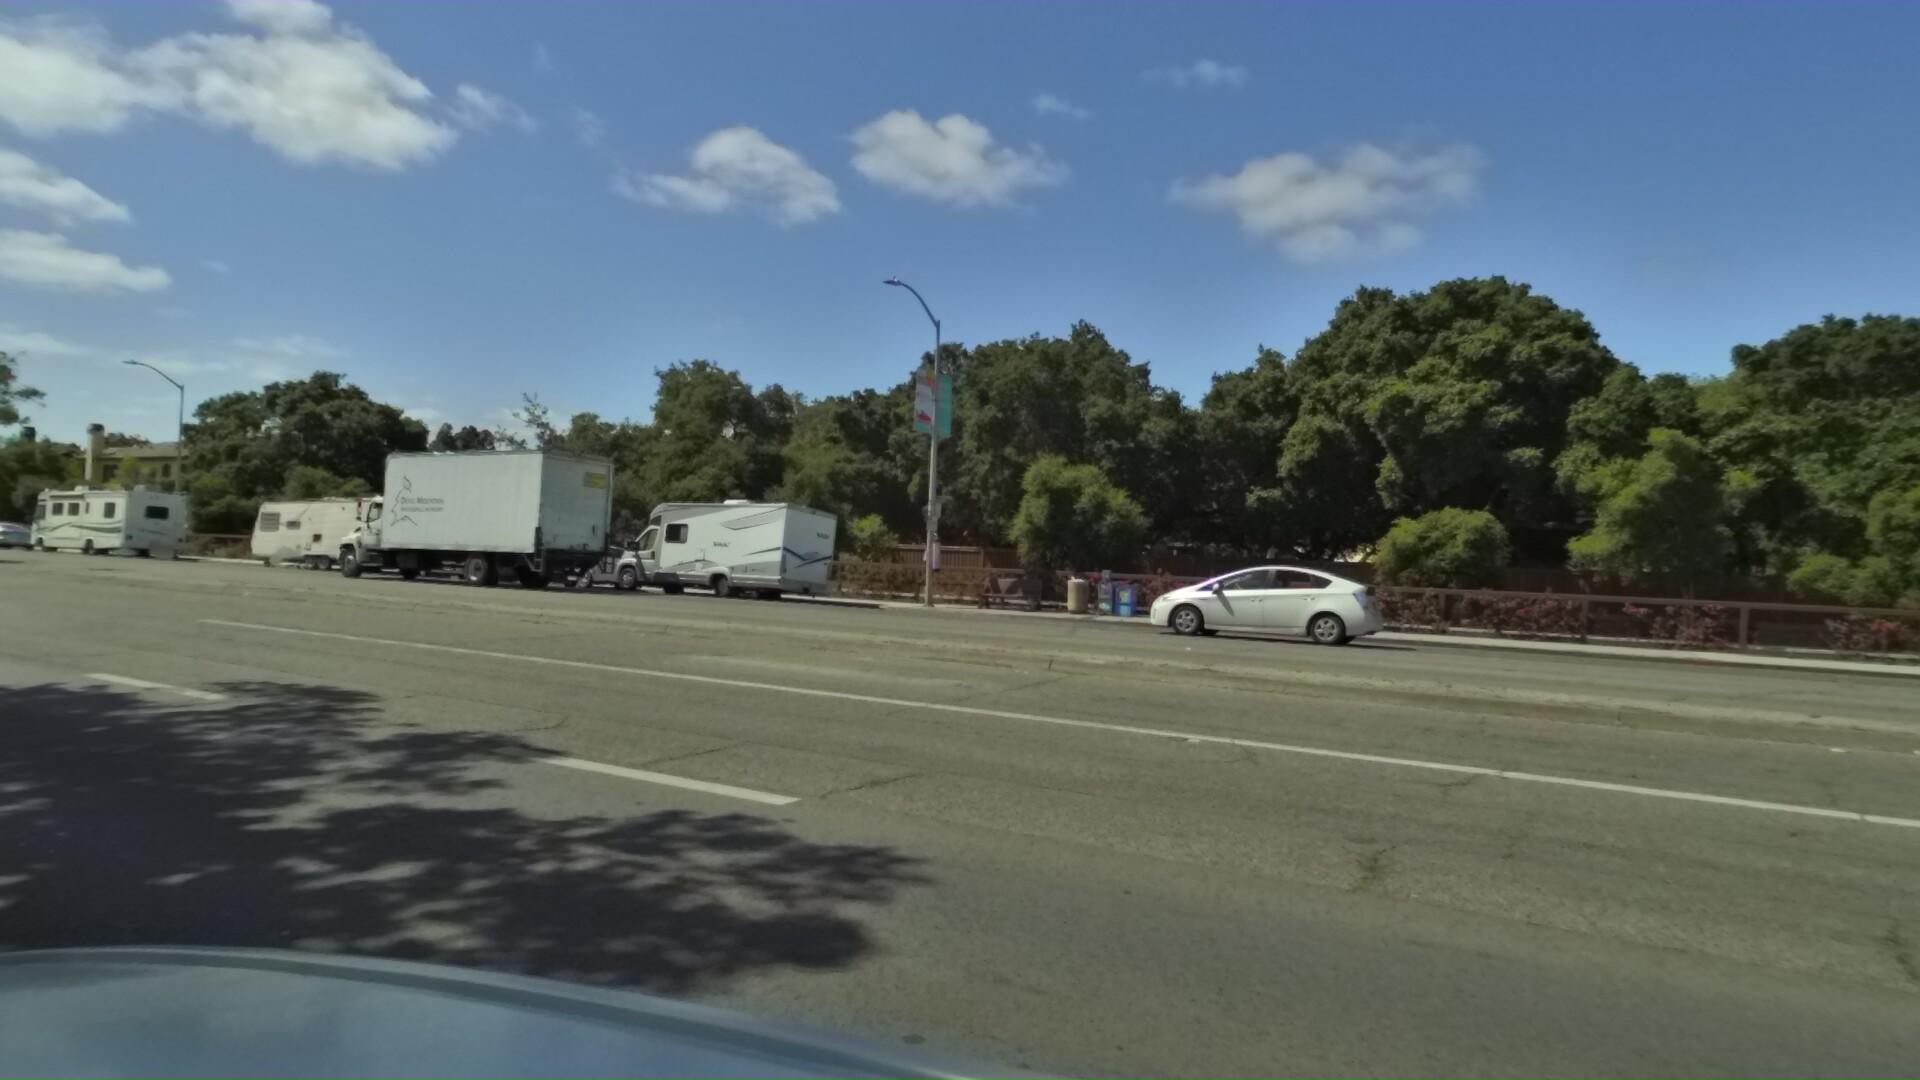car: (1097, 553, 1348, 647), (512, 537, 637, 593), (404, 535, 525, 587), (0, 518, 46, 555), (0, 506, 12, 553)
other_vehicle: (589, 492, 837, 608), (243, 488, 447, 578), (25, 477, 198, 568)
truck: (306, 440, 622, 591)
